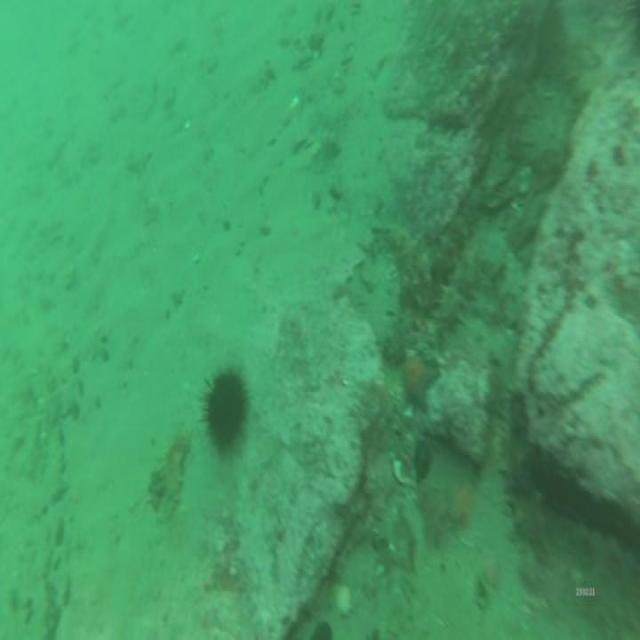echinus: (204, 374, 248, 446)
holothurian: (498, 387, 546, 550), (435, 240, 481, 330), (164, 432, 188, 502)
starfish: (402, 355, 437, 411)
